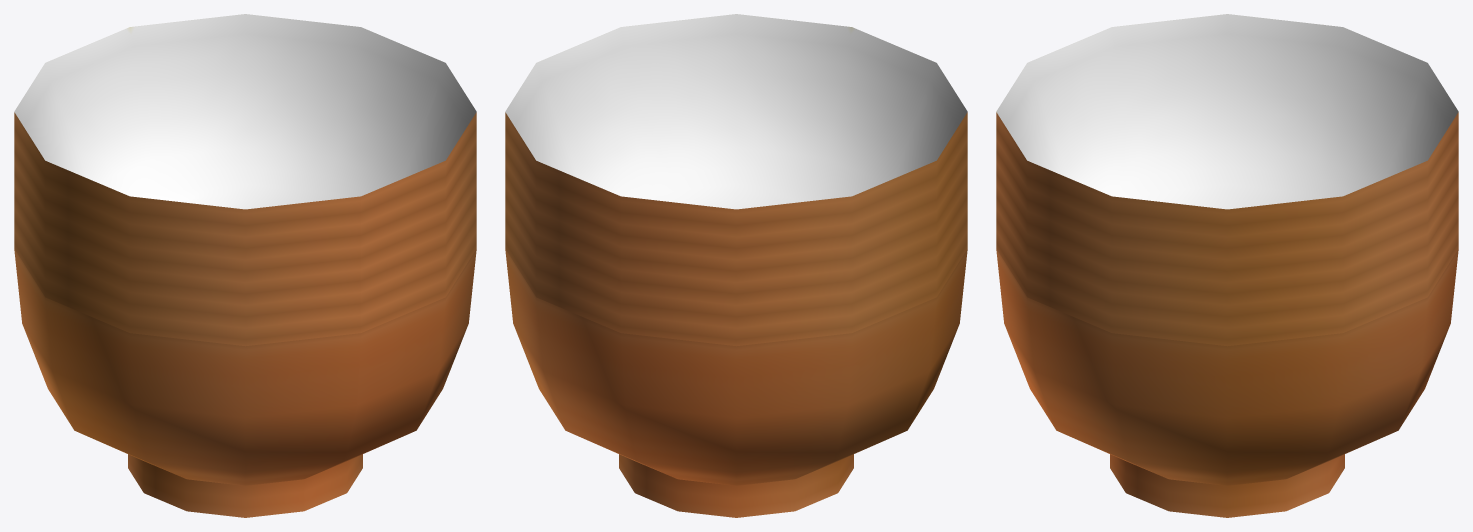
The model's file is jsf_Bowl_04_set.fbx.
The picture shows the model from 3 angles, left to right: view 1: azimuth 30°, elevation 25°; view 2: azimuth 150°, elevation 25°; view 3: azimuth 270°, elevation 25°; orthographic projection.
Parts seen in each view (by area): view 1: jsf_Bowl_04_set; view 2: jsf_Bowl_04_set; view 3: jsf_Bowl_04_set.
Part boxes in pixels (left/top/right/bottom): jsf_Bowl_04_set: left=14, top=14, right=476, bottom=517; jsf_Bowl_04_set: left=505, top=14, right=967, bottom=517; jsf_Bowl_04_set: left=996, top=14, right=1458, bottom=517.
Size of the model in its own units: 11.25 by 9.57 by 11.25.
